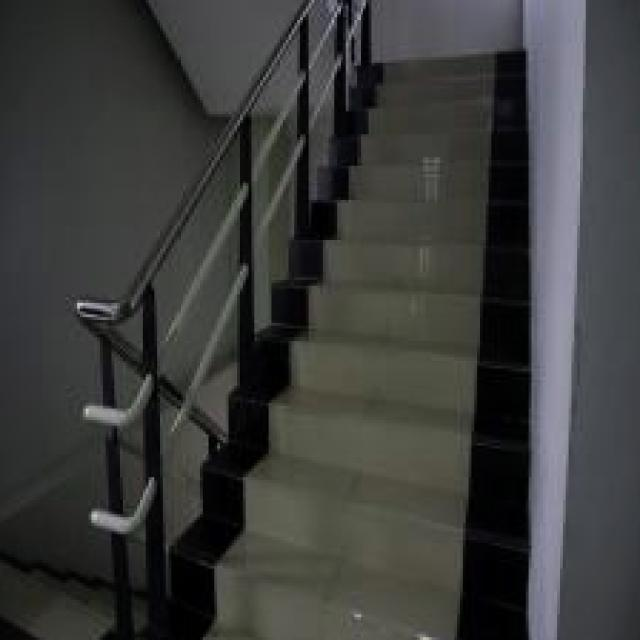upstair: (318, 204, 510, 558)
